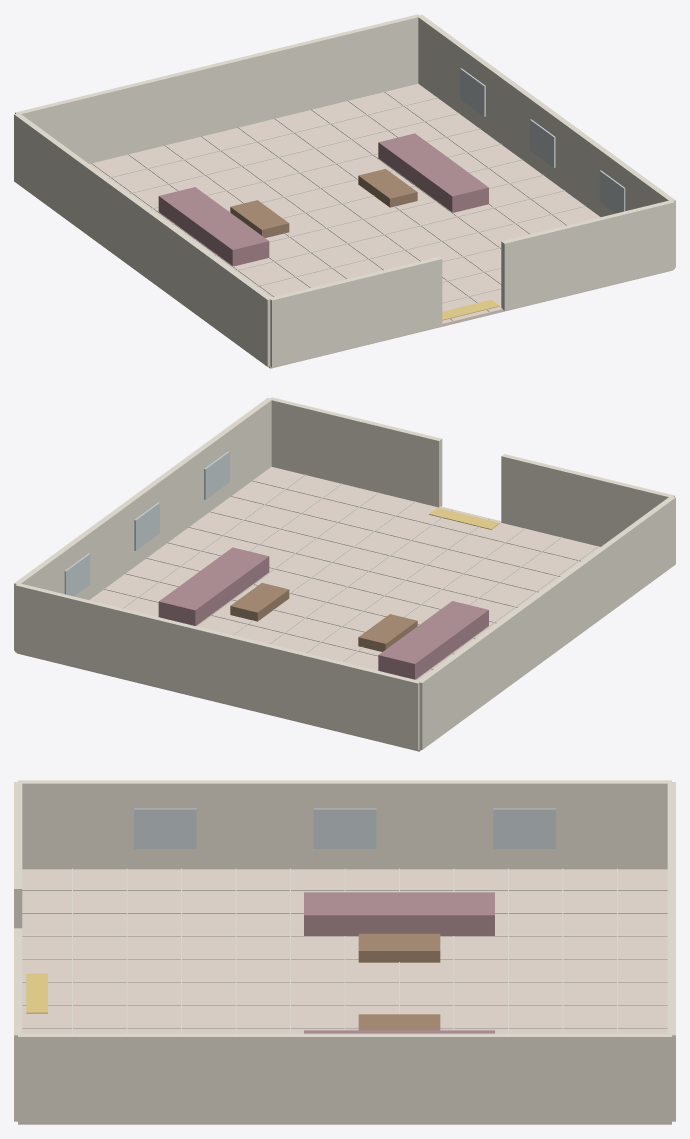
The model's file is lounge.glb.
3 views of the same model, one above another, from view 1: azimuth 30°, elevation 25°; view 2: azimuth 150°, elevation 25°; view 3: azimuth 270°, elevation 25° (orthographic). The views are drawn at different scales.
Visible parts, largest first — view 1: room_lounge__E8DDC2, room_lounge__E2C9B4, room_lounge__7D4E57, room_lounge__E6DCC6, room_lounge__6E4A30, room_lounge__B4C7CD; view 2: room_lounge__E8DDC2, room_lounge__E2C9B4, room_lounge__7D4E57, room_lounge__E6DCC6, room_lounge__6E4A30, room_lounge__B4C7CD, room_lounge__E7B54A; view 3: room_lounge__E8DDC2, room_lounge__E2C9B4, room_lounge__7D4E57, room_lounge__E6DCC6, room_lounge__B4C7CD, room_lounge__6E4A30, room_lounge__E7B54A.
Boxes of the visible parts, x1=… form: room_lounge__E8DDC2: x1=14, y1=14, x2=675, y2=367; room_lounge__E2C9B4: x1=89, y1=83, x2=672, y2=368; room_lounge__7D4E57: x1=158, y1=133, x2=488, y2=266; room_lounge__E6DCC6: x1=91, y1=91, x2=585, y2=320; room_lounge__6E4A30: x1=230, y1=169, x2=417, y2=237; room_lounge__B4C7CD: x1=460, y1=68, x2=625, y2=213; room_lounge__E8DDC2: x1=14, y1=397, x2=675, y2=750; room_lounge__E2C9B4: x1=17, y1=466, x2=600, y2=751; room_lounge__7D4E57: x1=158, y1=547, x2=488, y2=679; room_lounge__E6DCC6: x1=104, y1=474, x2=598, y2=679; room_lounge__6E4A30: x1=230, y1=583, x2=417, y2=651; room_lounge__B4C7CD: x1=64, y1=451, x2=229, y2=596; room_lounge__E7B54A: x1=429, y1=508, x2=499, y2=529; room_lounge__E8DDC2: x1=14, y1=780, x2=675, y2=1123; room_lounge__E2C9B4: x1=18, y1=869, x2=671, y2=1124; room_lounge__7D4E57: x1=304, y1=892, x2=494, y2=1033; room_lounge__E6DCC6: x1=22, y1=868, x2=667, y2=1033; room_lounge__B4C7CD: x1=134, y1=808, x2=555, y2=848; room_lounge__6E4A30: x1=358, y1=933, x2=440, y2=1030; room_lounge__E7B54A: x1=26, y1=973, x2=47, y2=1013.
Bounding box in the file's own units: 22.3 × 3.62 × 24.3.
